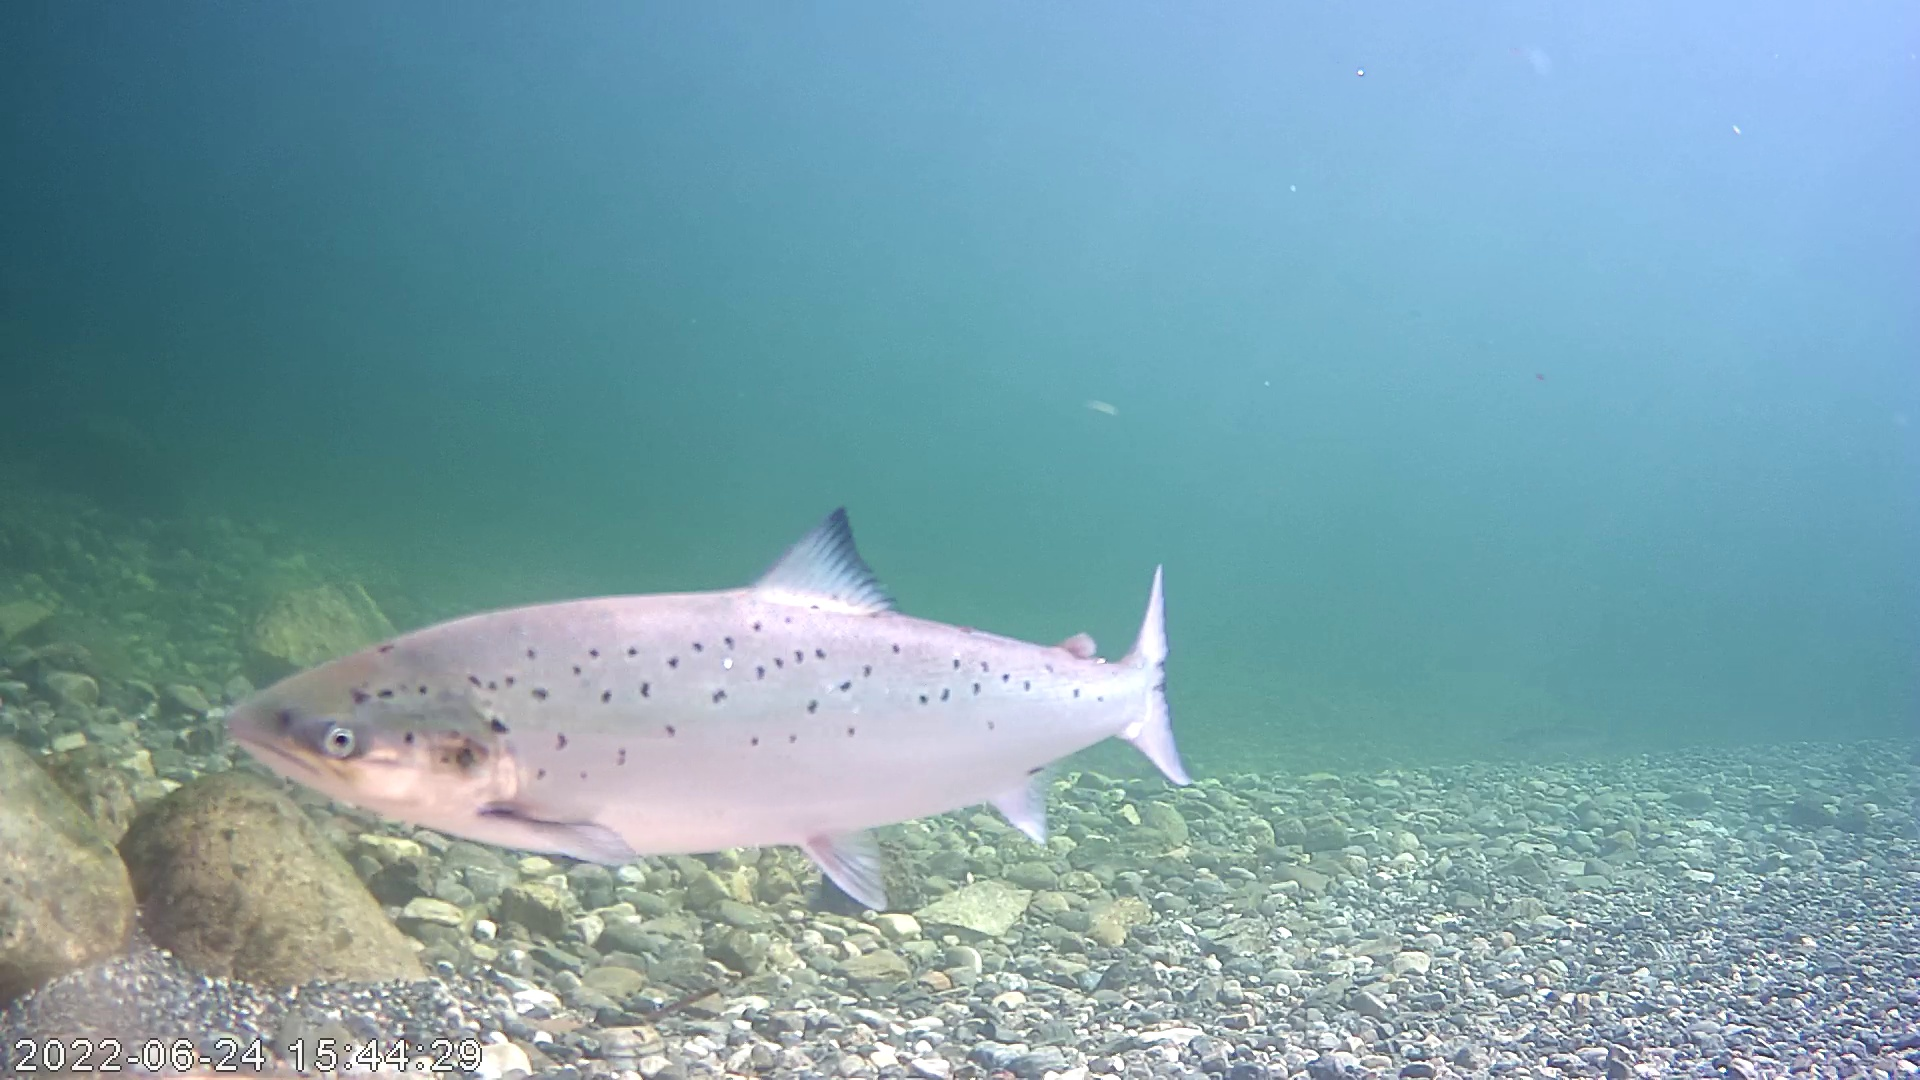salmon: (218, 505, 1191, 915)
